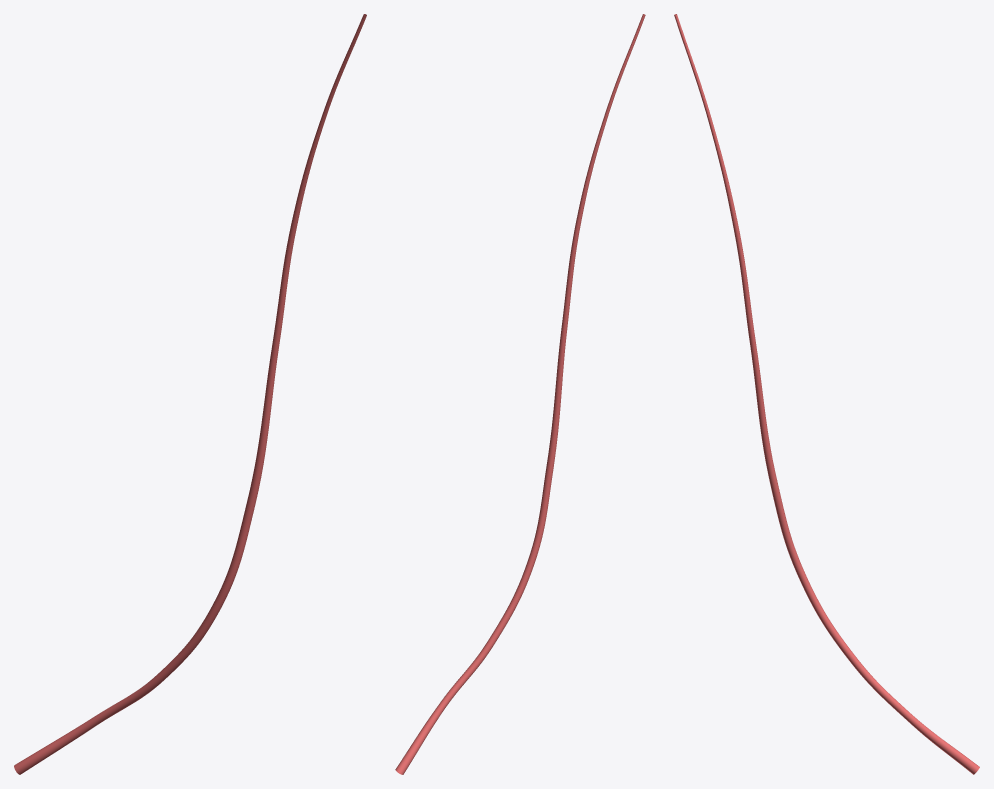
File: Inferior_epigastric_artery.l_BezierCurve.415.glb
The picture shows the model from 3 angles, left to right: view 1: azimuth 90°, elevation 25°; view 2: azimuth 150°, elevation 25°; view 3: azimuth 270°, elevation 25°; orthographic projection. The views are drawn at different scales.
Parts seen in each view (by area): view 1: Inferior_epigastric_artery.l_BezierCurve.415; view 2: Inferior_epigastric_artery.l_BezierCurve.415; view 3: Inferior_epigastric_artery.l_BezierCurve.415.
Part boxes in pixels (box(x1,y1,x2,y2)): Inferior_epigastric_artery.l_BezierCurve.415: box(14, 14, 366, 774); Inferior_epigastric_artery.l_BezierCurve.415: box(395, 14, 645, 774); Inferior_epigastric_artery.l_BezierCurve.415: box(674, 14, 979, 774).
Size of the model in its own units: 0.0327 by 0.2013 by 0.0786.
